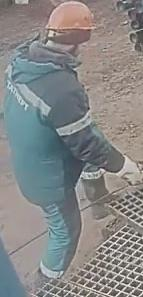gloves: (115, 154, 142, 186)
helmet: (44, 0, 95, 44)
vest: (4, 43, 97, 209)
